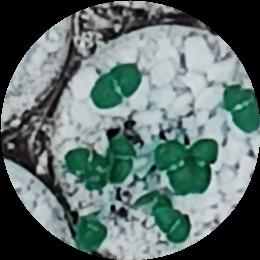Basil: (88, 61, 146, 110), (152, 145, 202, 192), (220, 84, 260, 134), (63, 148, 110, 185), (152, 203, 192, 244), (187, 138, 215, 194), (108, 135, 134, 182), (73, 224, 107, 249)
